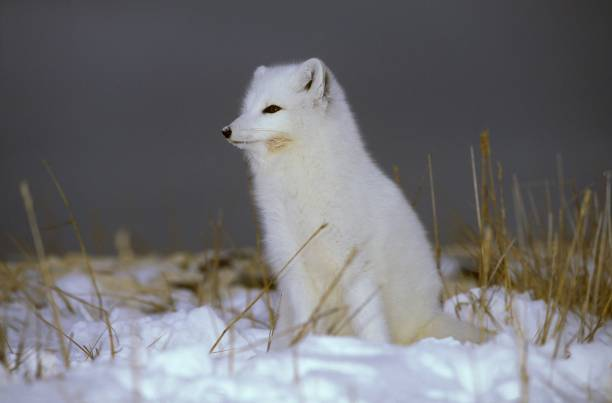arcticfox: (214, 76, 336, 171)
